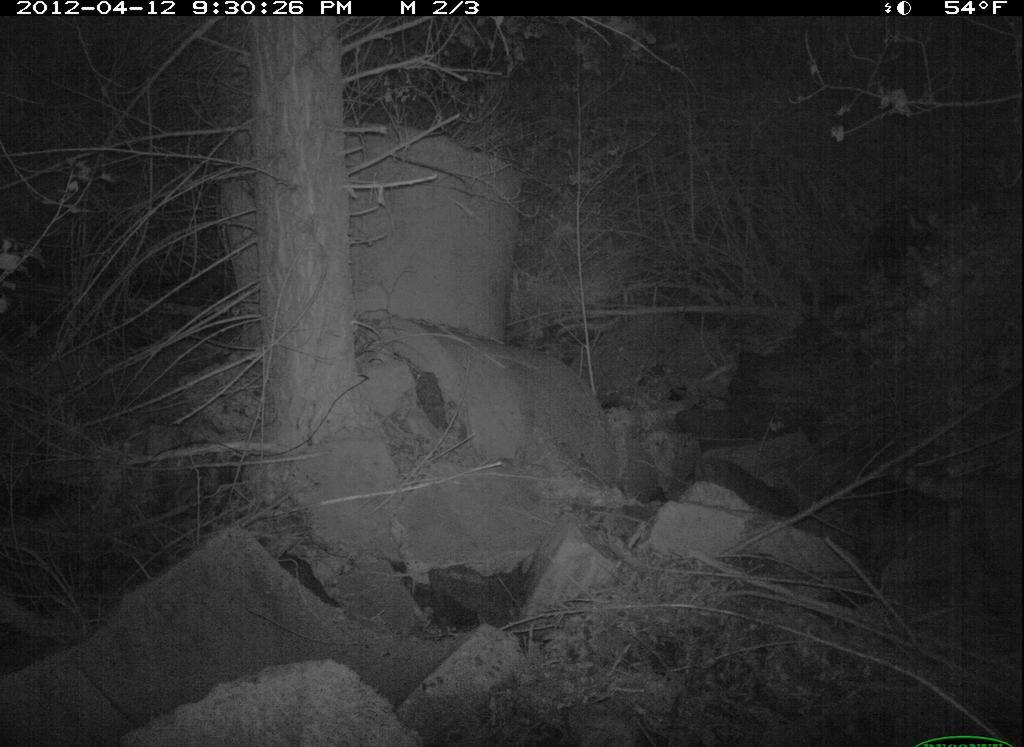raccoon: (857, 446, 1018, 598)
